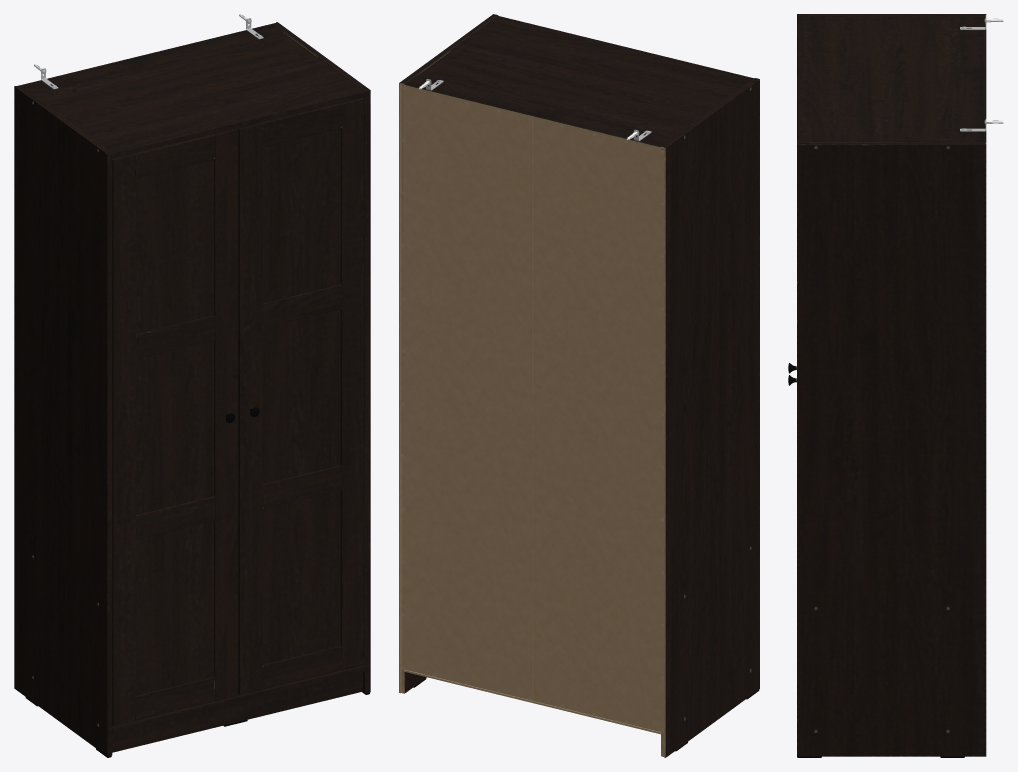
3 renders of one model, left to right at view 1: azimuth 30°, elevation 25°; view 2: azimuth 150°, elevation 25°; view 3: azimuth 270°, elevation 25°, orthographic.
Visible parts, largest first — view 1: world; view 2: world; view 3: world.
Boxes of the visible parts, box(x1,y1,x2,y2) form: world: box(14, 14, 370, 757); world: box(399, 14, 759, 757); world: box(788, 14, 1003, 757).
Size of the model in its own units: 0.79 by 1.76 by 0.55.
Materials: 1 (1 with a texture image).
